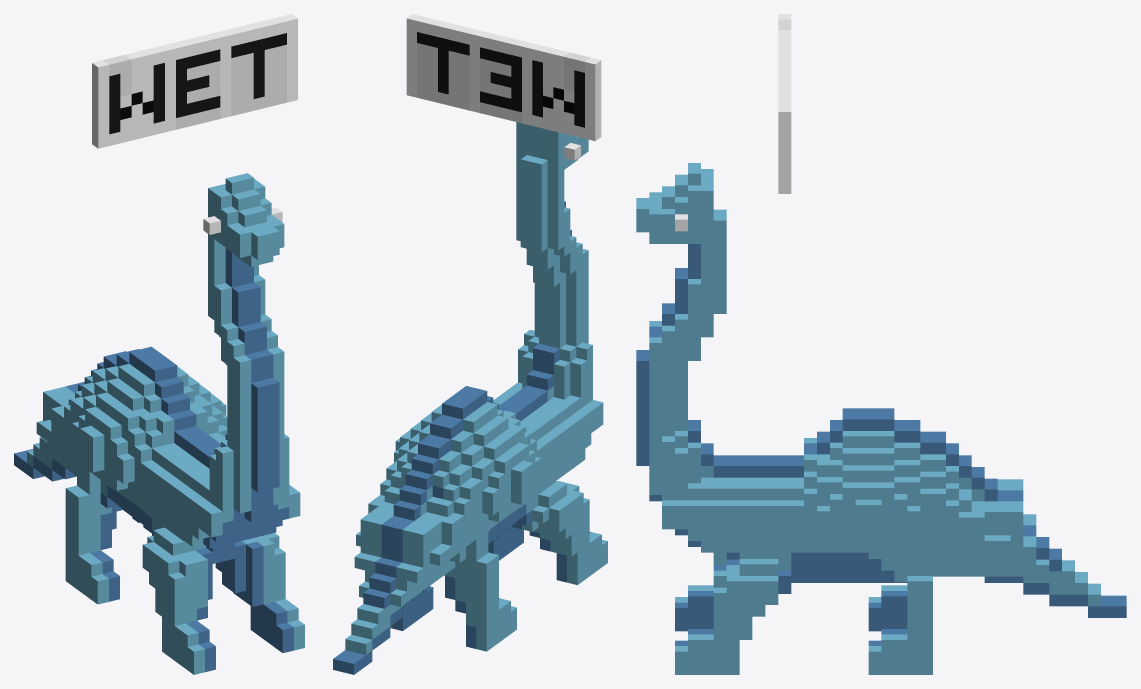
File: dino-q3-c.obj
3 views of the same model, side by side, from view 1: azimuth 30°, elevation 25°; view 2: azimuth 150°, elevation 25°; view 3: azimuth 270°, elevation 25° (orthographic). The views are drawn at different scales.
Parts seen in each view (by area): view 1: Matrix_31; view 2: Matrix_31; view 3: Matrix_31.
Boxes of the visible parts, bbox=[...] form: Matrix_31: bbox=[14, 14, 304, 674]; Matrix_31: bbox=[333, 14, 607, 674]; Matrix_31: bbox=[636, 14, 1126, 674].
Bounding box in the file's own units: 18 × 50 × 38.
1 material, 1 textured.
